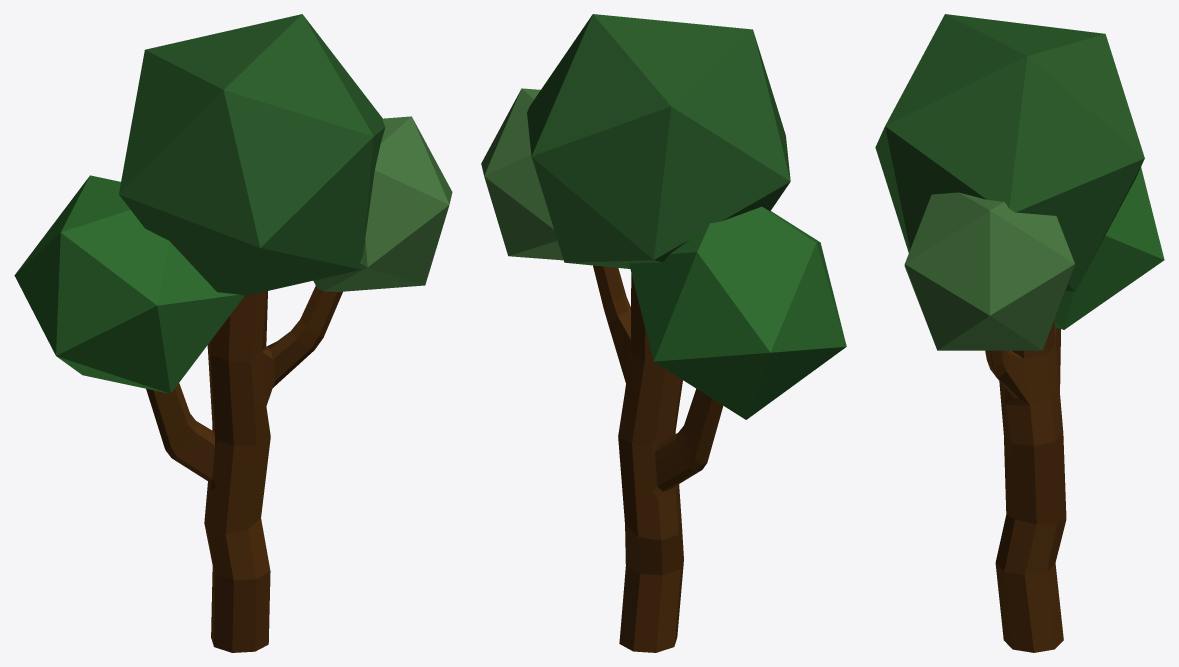
File: Tree_1.fbx
The picture shows the model from 3 angles, left to right: view 1: azimuth 30°, elevation 25°; view 2: azimuth 150°, elevation 25°; view 3: azimuth 270°, elevation 25°; orthographic projection.
Parts seen in each view (by area): view 1: Cylinder; view 2: Cylinder; view 3: Cylinder.
Boxes of the visible parts, box(x1,y1,x2,y2) form: Cylinder: box(14, 14, 452, 652); Cylinder: box(481, 14, 846, 652); Cylinder: box(875, 14, 1164, 652).
Size of the model in its own units: 440 by 676 by 289.
